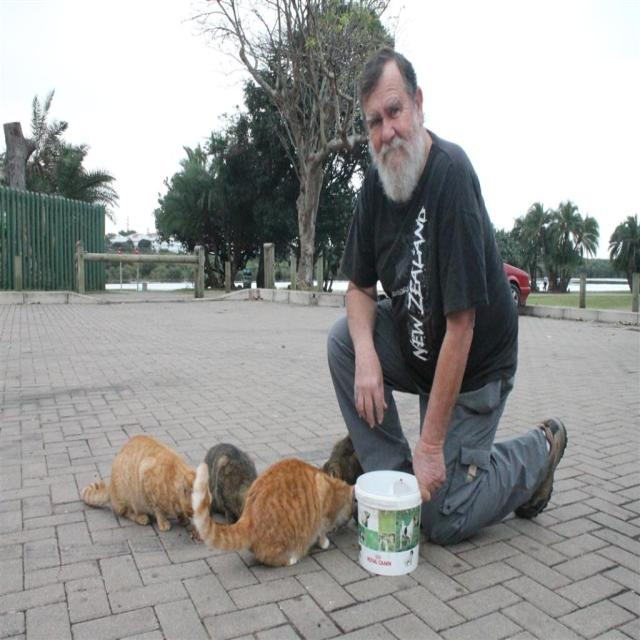cat: (192, 459, 355, 566), (82, 435, 196, 530), (205, 444, 258, 524)
